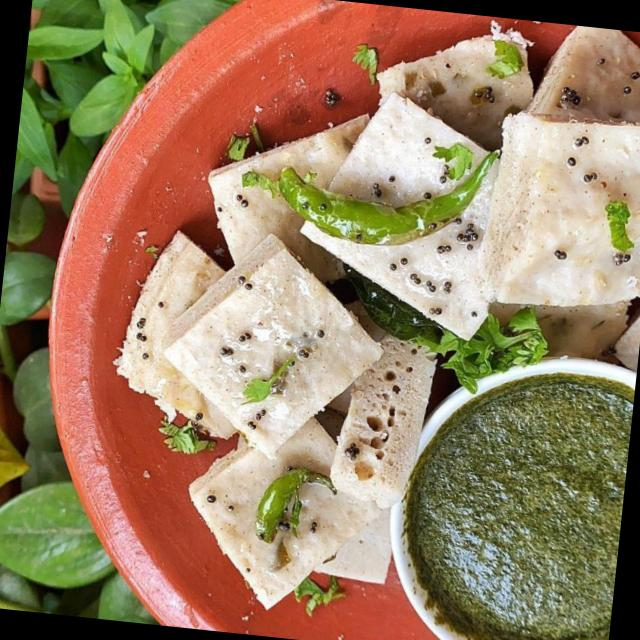dhokla: (102, 20, 464, 638), (443, 26, 640, 360)
